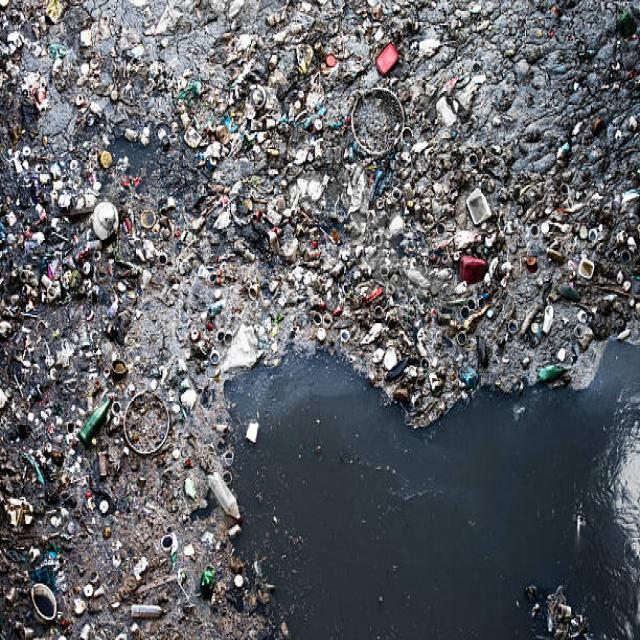cardboard: (221, 39, 305, 165)
glass: (75, 392, 110, 446)
metal: (431, 134, 566, 184)
plastic: (249, 207, 447, 340), (369, 44, 405, 81)
